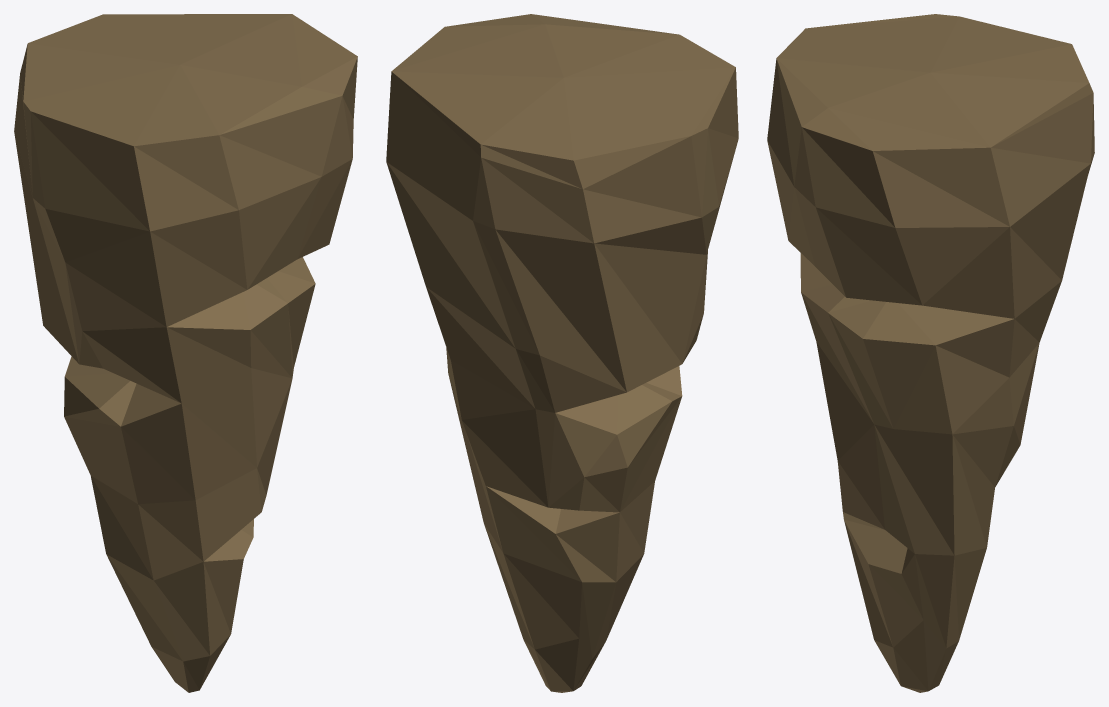
Rendered from LightRockDecorationLargeStalactite1.fbx.
3 views of the same model, side by side, from view 1: azimuth 30°, elevation 25°; view 2: azimuth 150°, elevation 25°; view 3: azimuth 270°, elevation 25° (orthographic).
Visible parts, largest first — view 1: LightRockDecorationLargeStalactite1; view 2: LightRockDecorationLargeStalactite1; view 3: LightRockDecorationLargeStalactite1.
Boxes of the visible parts, x1,y1,x2,y2 form: LightRockDecorationLargeStalactite1: (14,14,357,692); LightRockDecorationLargeStalactite1: (386,14,738,692); LightRockDecorationLargeStalactite1: (767,14,1094,692).
Size of the model in its own units: 472 by 925 by 446.
